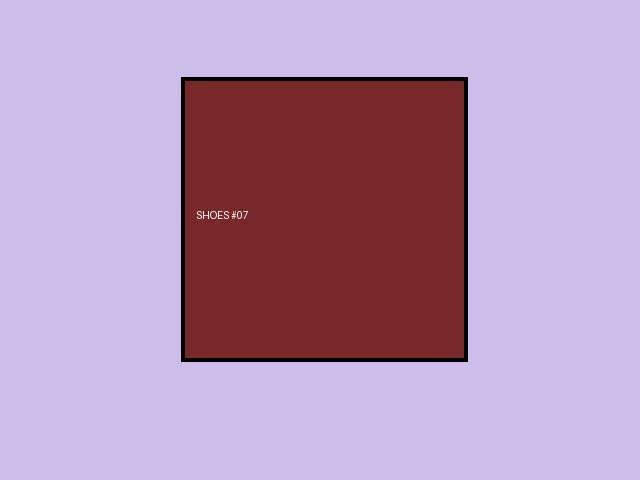shoes: (181, 77, 467, 361)
